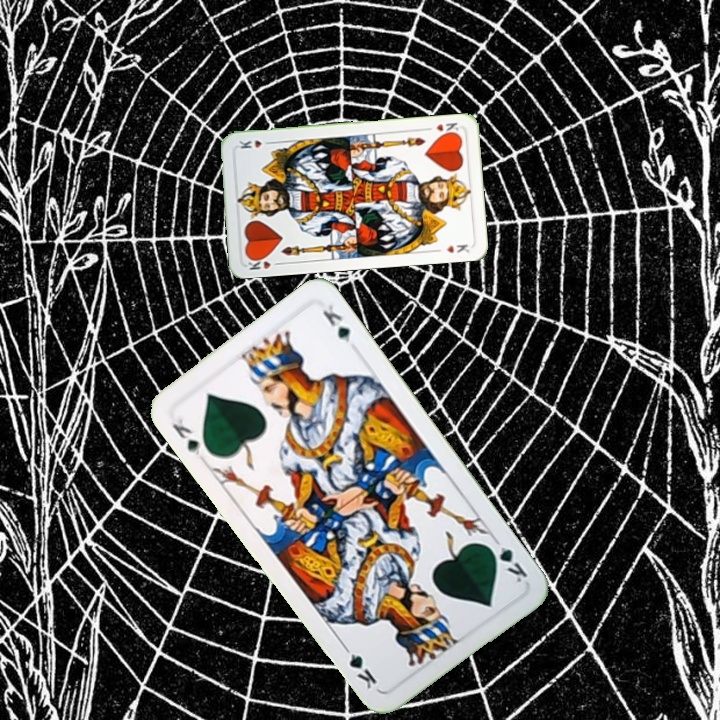GK: (483, 539, 530, 586), (168, 414, 203, 458)
HK: (243, 252, 284, 273), (432, 118, 461, 138)
